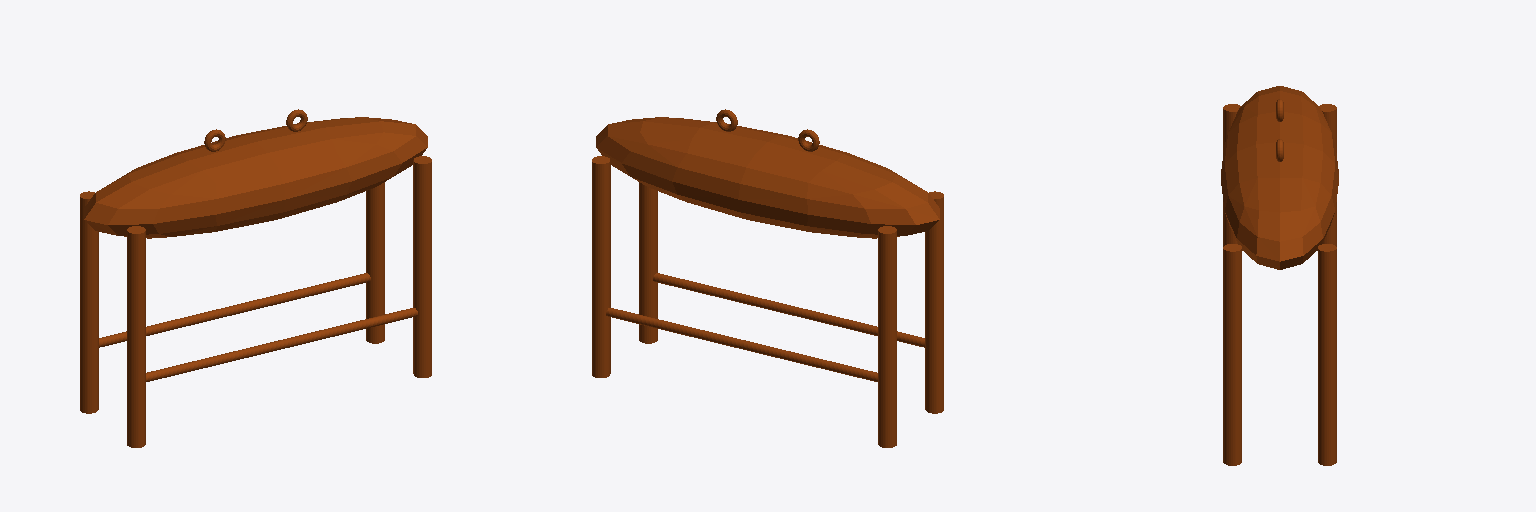
The model's file is PommelHorse.obj.
3 views of the same model, side by side, from view 1: azimuth 30°, elevation 25°; view 2: azimuth 150°, elevation 25°; view 3: azimuth 270°, elevation 25° (orthographic).
Visible parts, largest first — view 1: PommelBody, Leg_-0.7_-0.2, Leg_0.7_-0.2, Leg_-0.7_0.2, Leg_0.7_0.2, Crossbar1, Crossbar2; view 2: PommelBody, Leg_-0.7_0.2, Leg_0.7_0.2, Leg_-0.7_-0.2, Leg_0.7_-0.2, Crossbar2, Crossbar1; view 3: PommelBody, Leg_0.7_-0.2, Leg_0.7_0.2, Leg_-0.7_-0.2, Leg_-0.7_0.2.
Boxes of the visible parts, x1=… form: PommelBody: x1=84, y1=117, x2=427, y2=238; Leg_-0.7_-0.2: x1=127, y1=226, x2=145, y2=447; Leg_0.7_-0.2: x1=413, y1=156, x2=431, y2=377; Leg_-0.7_0.2: x1=80, y1=191, x2=98, y2=413; Leg_0.7_0.2: x1=366, y1=182, x2=384, y2=343; Crossbar1: x1=146, y1=308, x2=417, y2=381; Crossbar2: x1=99, y1=273, x2=370, y2=347; PommelBody: x1=596, y1=117, x2=939, y2=238; Leg_-0.7_0.2: x1=878, y1=226, x2=896, y2=447; Leg_0.7_0.2: x1=592, y1=156, x2=610, y2=377; Leg_-0.7_-0.2: x1=925, y1=191, x2=943, y2=413; Leg_0.7_-0.2: x1=639, y1=182, x2=657, y2=343; Crossbar2: x1=606, y1=308, x2=877, y2=381; Crossbar1: x1=653, y1=273, x2=924, y2=347; PommelBody: x1=1221, y1=86, x2=1338, y2=269; Leg_0.7_-0.2: x1=1223, y1=244, x2=1241, y2=465; Leg_0.7_0.2: x1=1318, y1=244, x2=1336, y2=465; Leg_-0.7_-0.2: x1=1223, y1=104, x2=1240, y2=246; Leg_-0.7_0.2: x1=1319, y1=104, x2=1336, y2=246.
Size of the model in its own units: 1.68 by 1.27 by 0.5037.